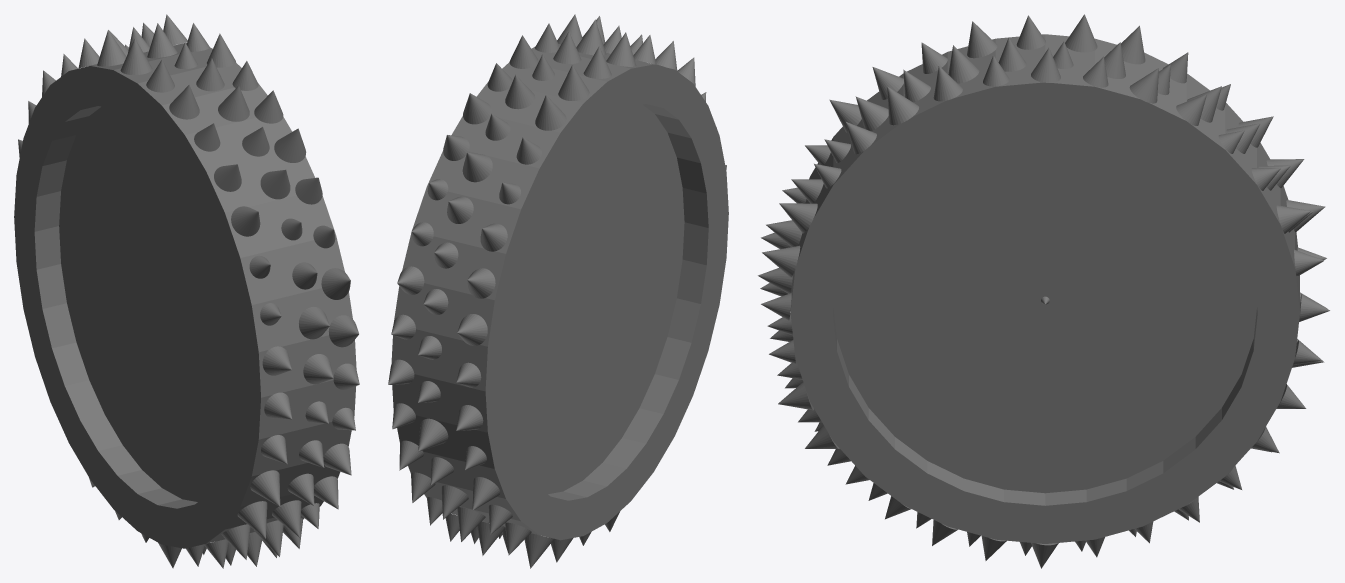
File: enemy_L_wheel.obj
3 renders of one model, left to right at view 1: azimuth 30°, elevation 25°; view 2: azimuth 150°, elevation 25°; view 3: azimuth 270°, elevation 25°, orthographic. The views are drawn at different scales.
Visible parts, largest first — view 1: タイヤ1; view 2: タイヤ1; view 3: タイヤ1.
Part boxes in pixels (x1,y1,x2,y2): タイヤ1: (14, 14, 359, 568); タイヤ1: (388, 14, 728, 568); タイヤ1: (758, 14, 1329, 568).
Bounding box in the file's own units: 0.1632 × 0.8028 × 0.7976.
Materials: 1 (1 with a texture image).
